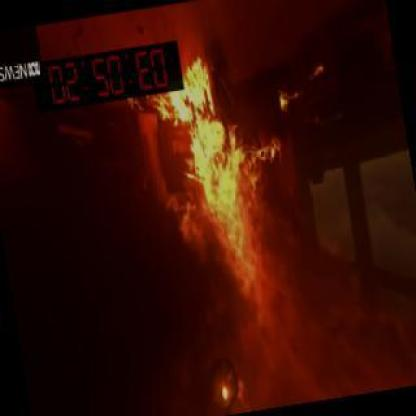Fire: (138, 77, 286, 316)
